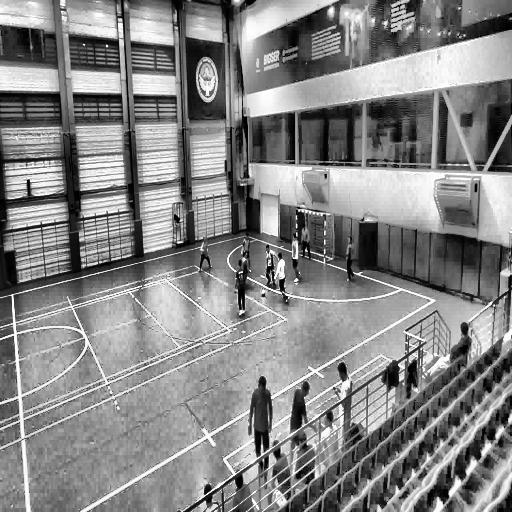ball: (261, 289, 266, 298)
player: (249, 375, 272, 480), (333, 362, 352, 442), (235, 248, 251, 319), (272, 252, 290, 307), (240, 231, 253, 274), (265, 243, 277, 287), (290, 233, 300, 282), (344, 237, 354, 283), (198, 239, 212, 271), (300, 222, 310, 260), (240, 251, 249, 286)
